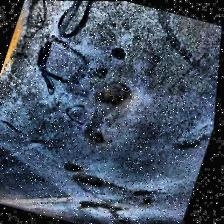pothole: (96, 76, 132, 108), (72, 170, 108, 190), (83, 126, 109, 146), (178, 135, 204, 153), (66, 160, 86, 174)
